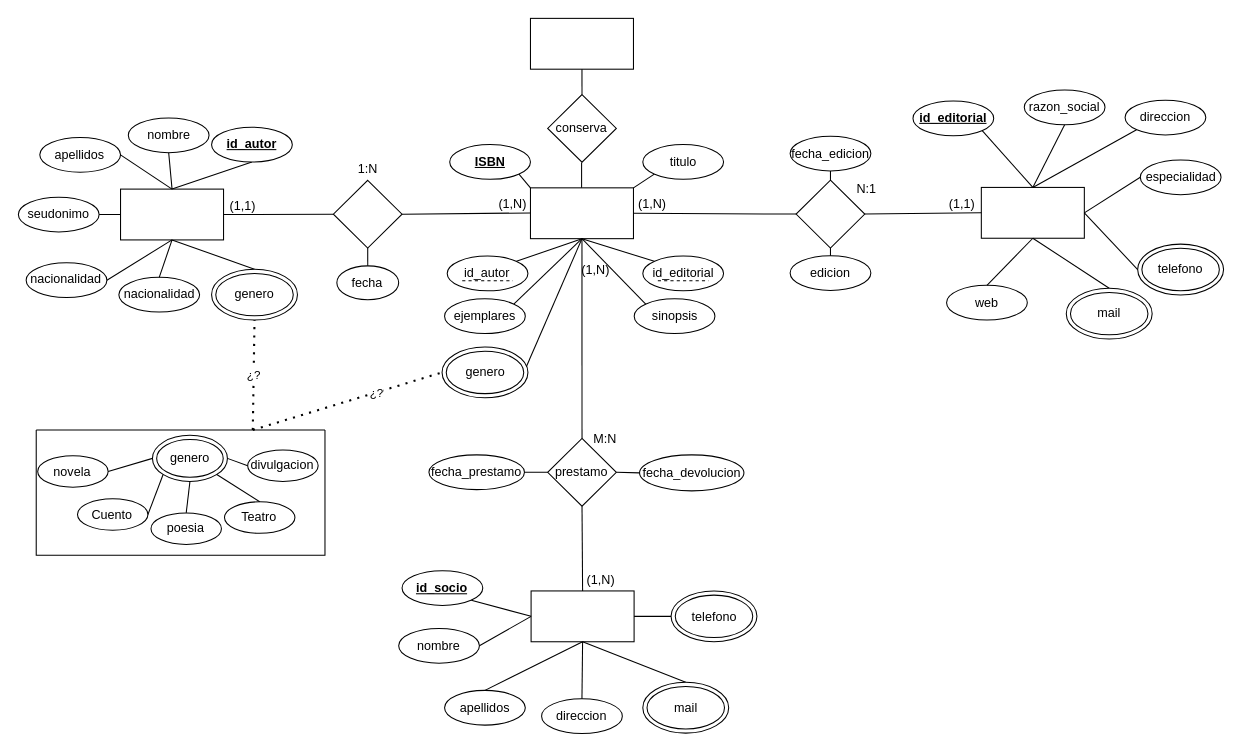
Some shapes in this 1242 by 753 pixel diagram are drawn without their labels. Each missing label, with the centre of its shape:
"AUTOR" goes at point (171, 214).
"BIBLIOTECA" goes at point (581, 43).
"edita" goes at point (830, 213).
"EDITORIAL" goes at point (1032, 212).
"escribe" goes at point (367, 213).
"LIBRO" goes at point (581, 213).
"SOCIO" goes at point (582, 616).
